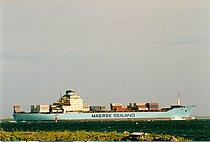Ship: (11, 83, 200, 127)
